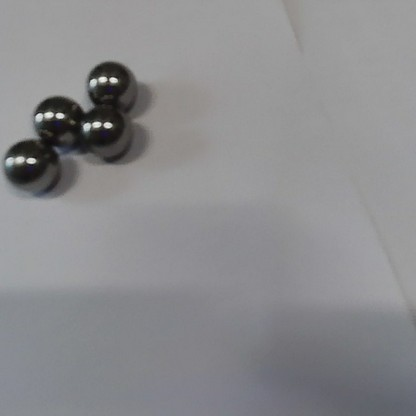ironball: (3, 135, 67, 201), (28, 90, 88, 150), (78, 103, 137, 163), (81, 57, 142, 112)
